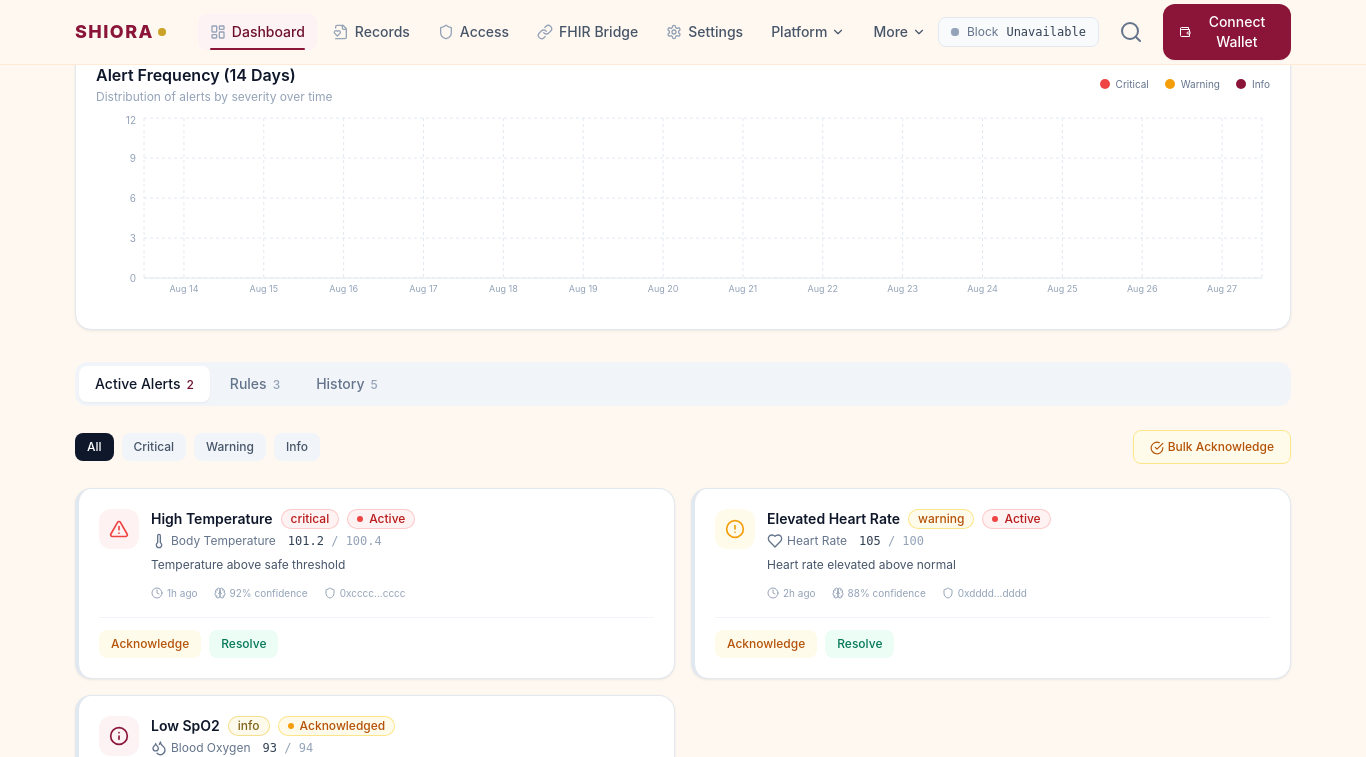
Test case: AlertsPage › opens create rule modal when clicking Create Rule
(page scrolled)
Note: Go to rules tab
Click the tab "Rules3" at (255, 384), box [214,366,296,402]
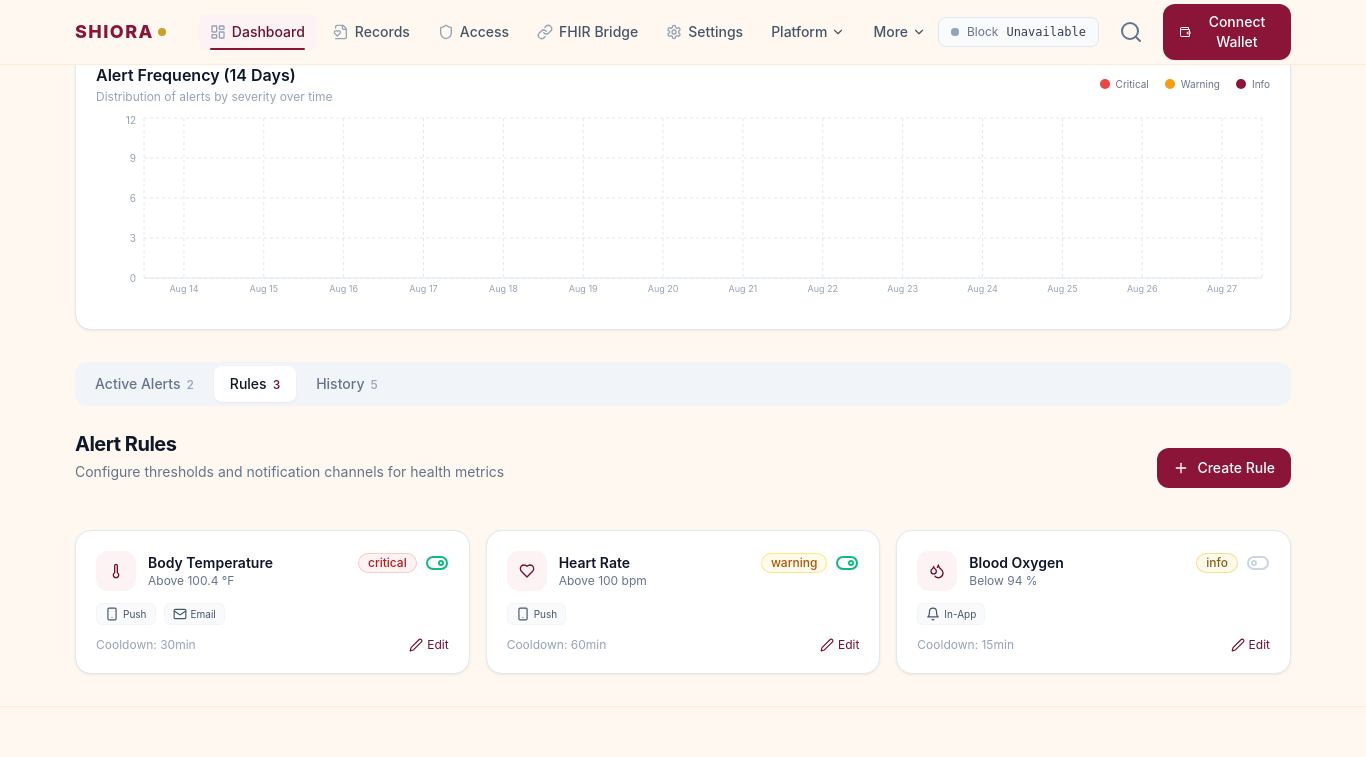
Note: Click Create Rule
Click the button "Create Rule" at (1224, 468), box [1157,448,1291,488]
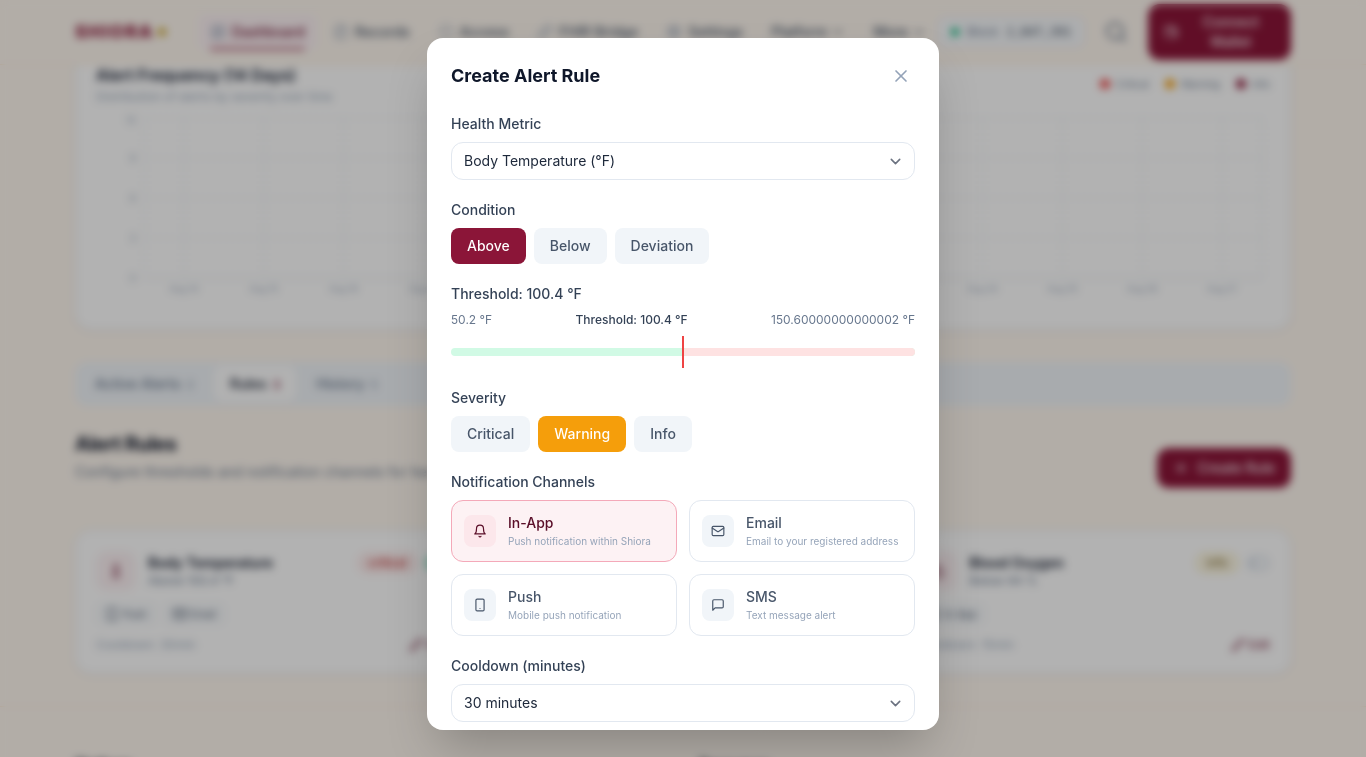
Expected: the heading "Create Alert Rule" is shown, [451,62,600,90]
Expected: the text "Health Metric" is shown, [451,115,541,132]
Expected: the text "Condition" is shown, [451,201,516,218]
